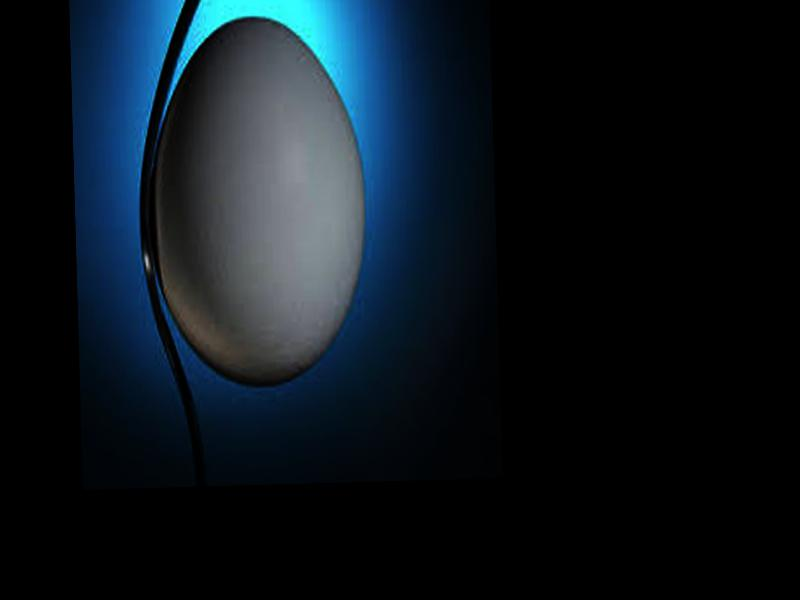Eggs: (147, 14, 367, 388)
